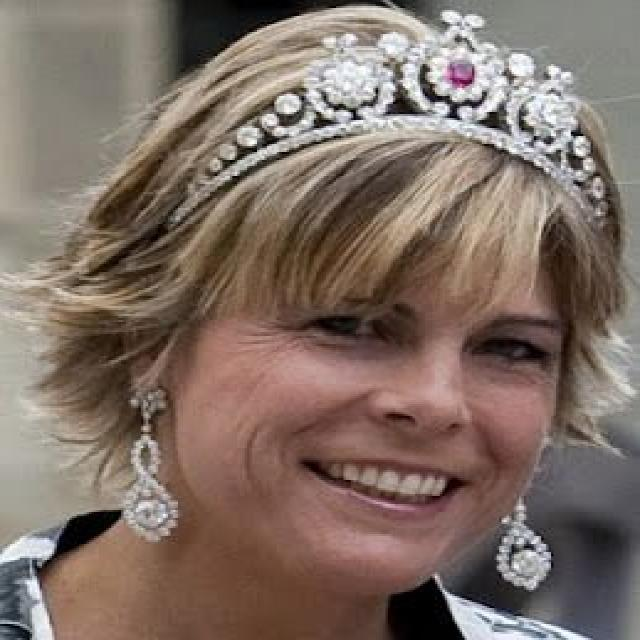Earring: (102, 381, 200, 554), (484, 494, 563, 600)
